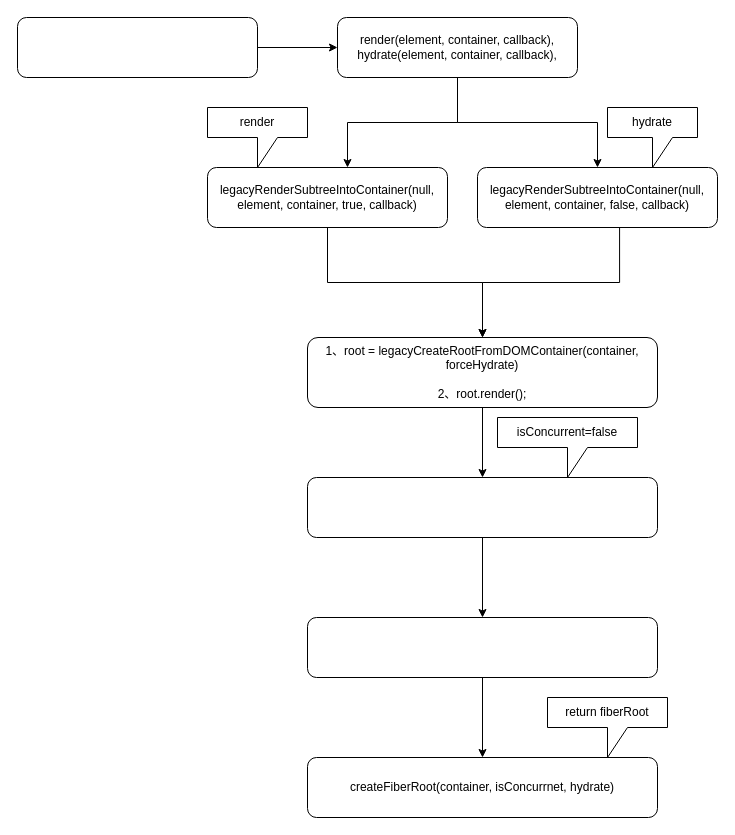
The diagram is 735 pixels wide and 835 high, and some of its shapes have lost their labels. The shapes that lost their labels are listed below. From the top down, each one's centre as x and y in pixels, then its label:
the point at 137,47: ReactDom.render(App, document.getElementById("root"))
the point at 482,507: return new ReactRoot(container, isConcurrent, shouldHydrate)
the point at 482,647: { _internalRoot: DOMRender.createContainer(container, isConcurrent, hydrate) }
